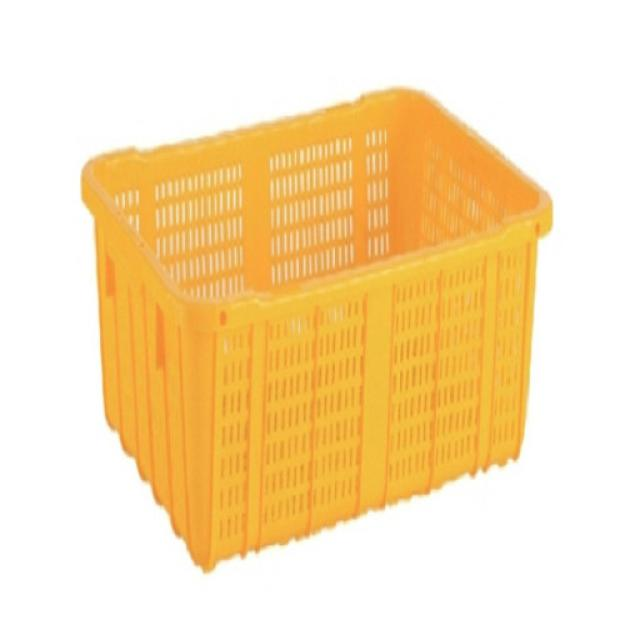basket: (25, 21, 630, 586)
